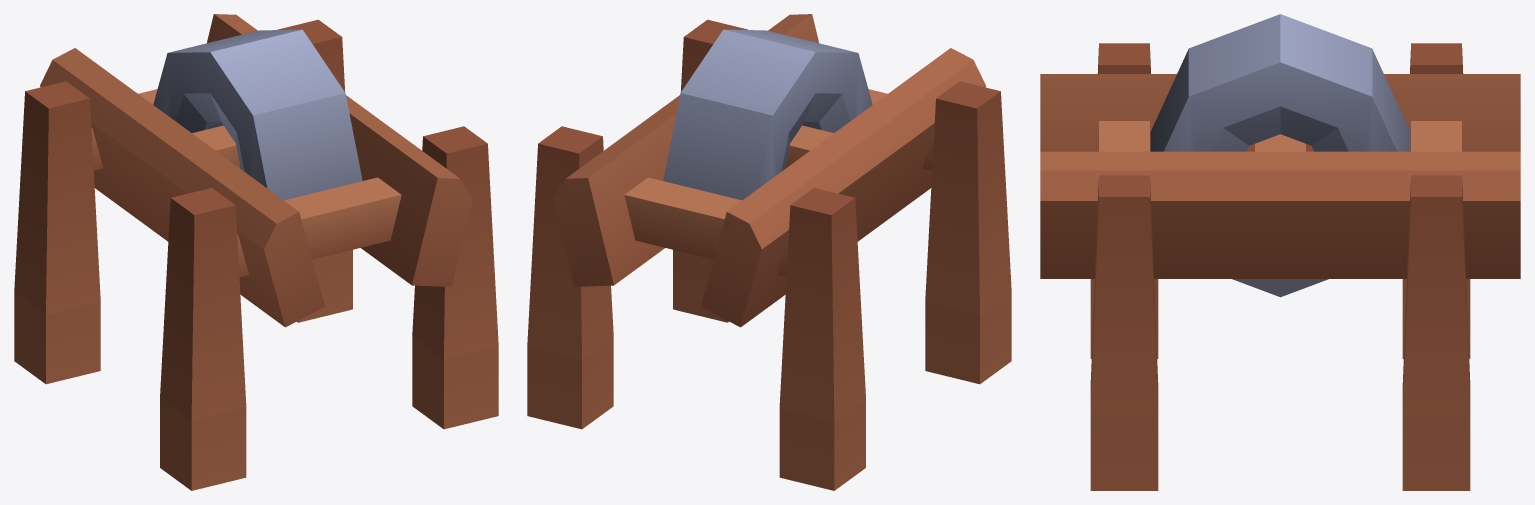
File: i_grind.glb
3 views of the same model, side by side, from view 1: azimuth 30°, elevation 25°; view 2: azimuth 150°, elevation 25°; view 3: azimuth 270°, elevation 25° (orthographic). The views are drawn at different scales.
Size of the model in its own units: 0.2604 by 0.2817 by 0.329.
